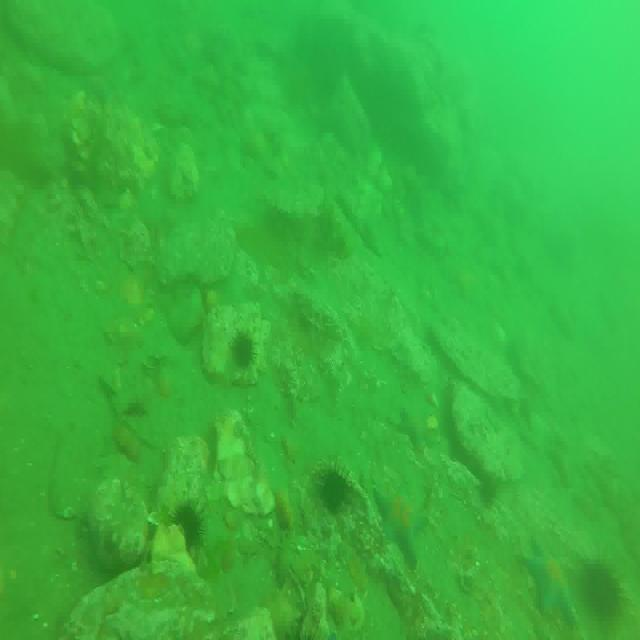echinus: (576, 546, 624, 629), (172, 499, 206, 551), (315, 464, 349, 513), (231, 328, 256, 376)
starfish: (524, 535, 580, 628), (374, 476, 426, 565), (400, 402, 436, 454)
